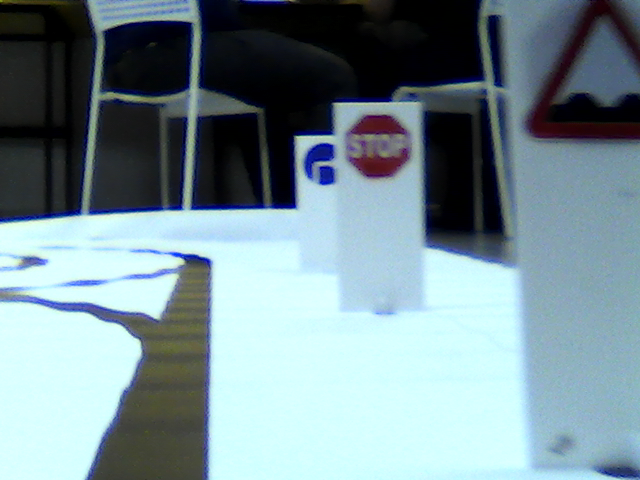Nerov: (521, 4, 637, 152)
Stop: (344, 113, 411, 181)
